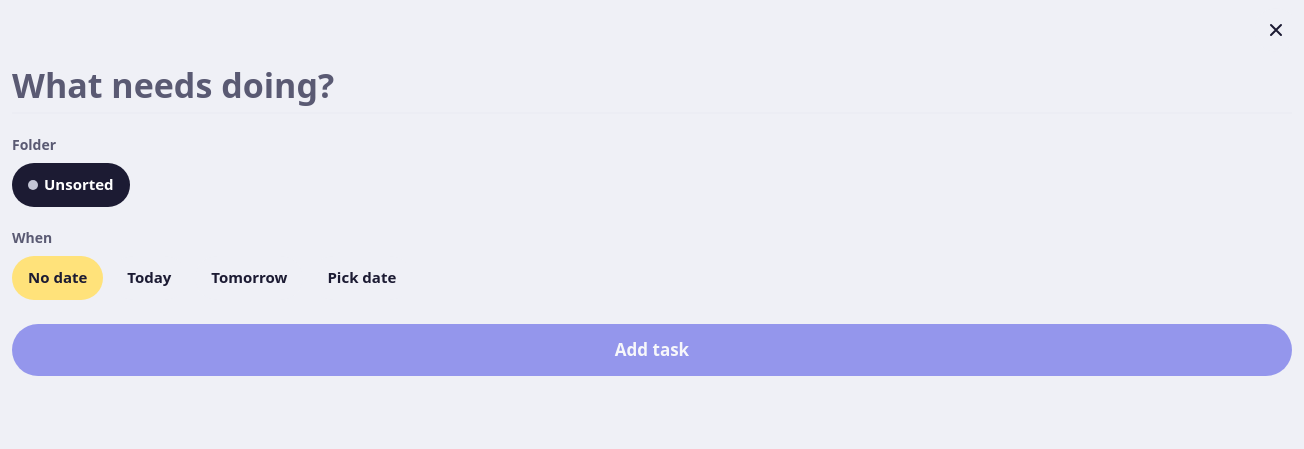
Test case: QuickAdd › accepts a date from the calendar, matching a chip when it is one
Type "2026-11-09" into the date field labelled "Pick date" at (362, 278), box x1=311 y1=256 x2=412 y2=300
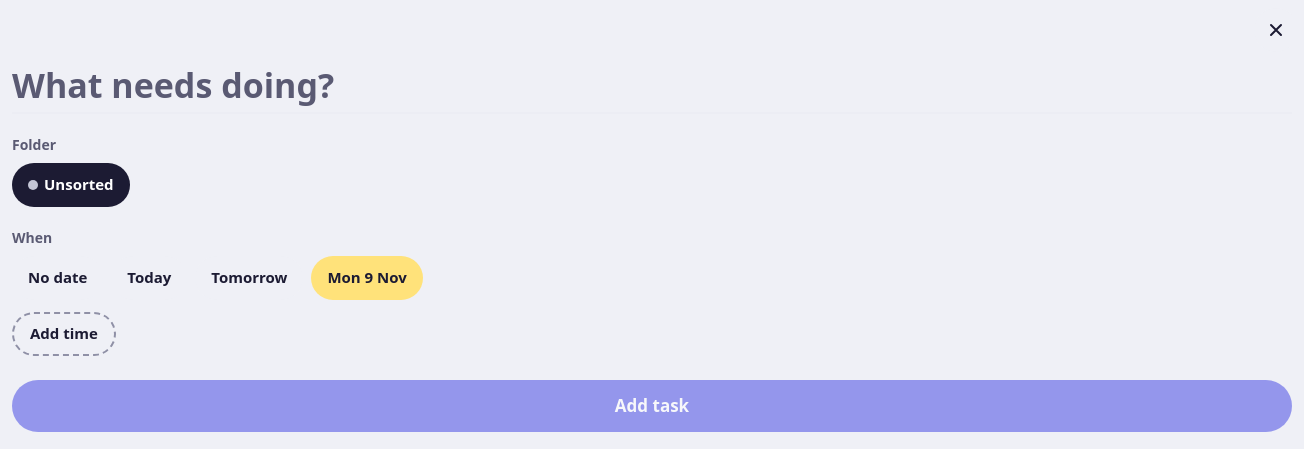
Result: the text "Mon 9 Nov" is shown at x1=327 y1=266 x2=407 y2=289
Type "Dentist" into the field named "Task title" at (652, 89), box x1=12 y1=64 x2=1292 y2=114
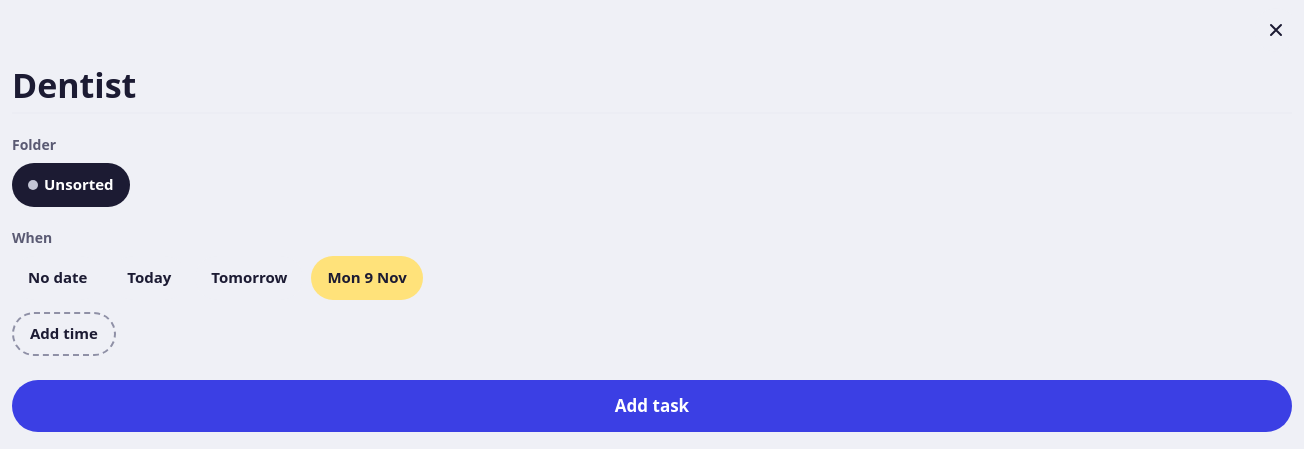
Click the button "Add task" at (652, 406), box x1=12 y1=380 x2=1292 y2=432
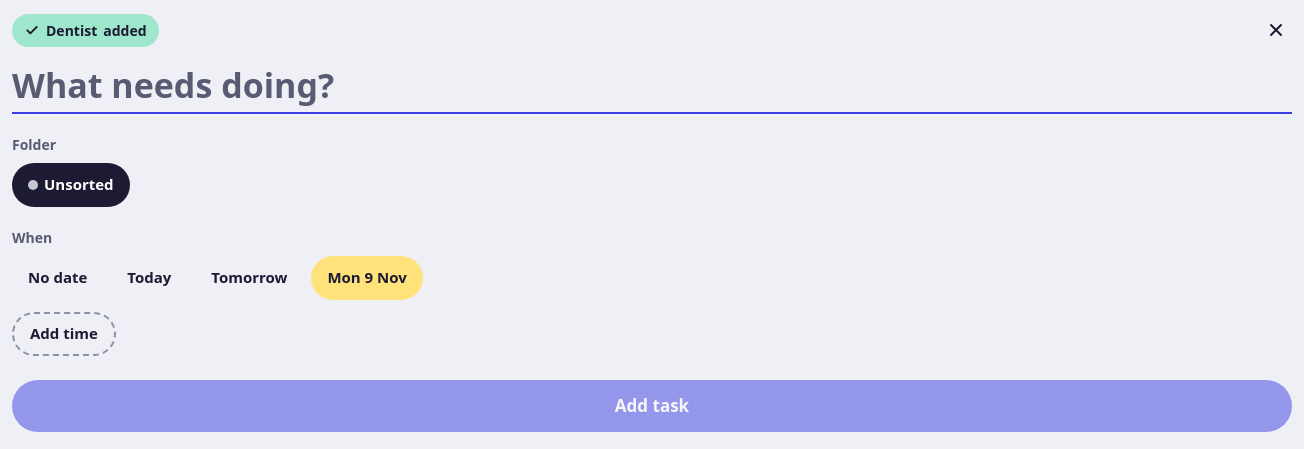
Type "2026-10-30" into the date field named "Pick date" at (367, 278), box x1=311 y1=256 x2=423 y2=300
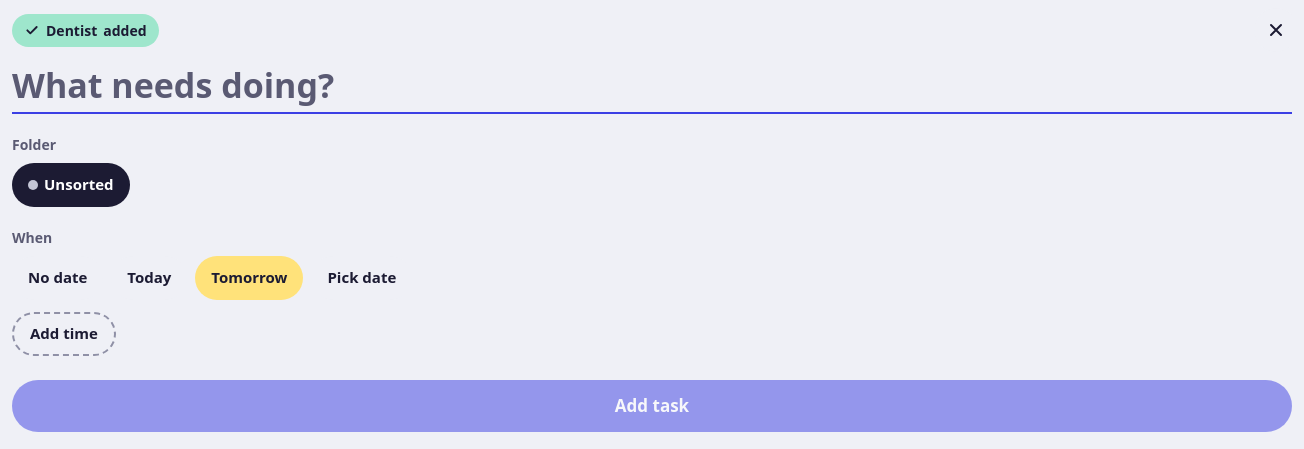
Result: the text "Pick date" is shown at x1=327 y1=266 x2=396 y2=289
